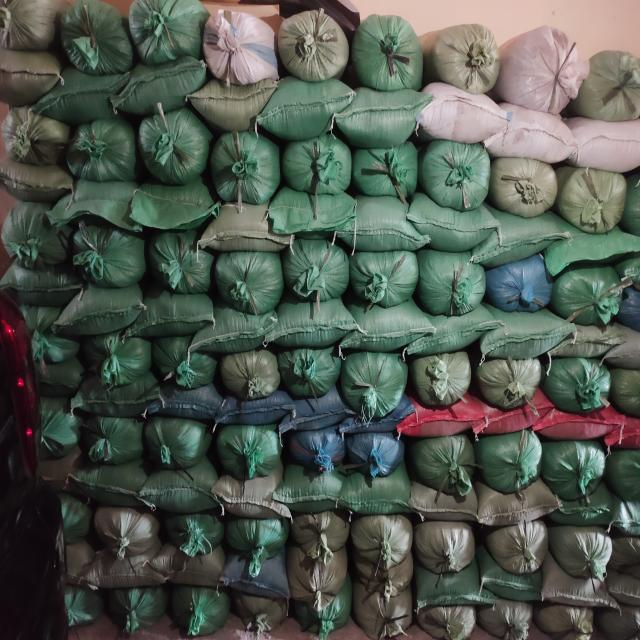Bistay sand: (513, 33, 576, 109), (437, 17, 500, 93), (65, 15, 132, 71), (133, 10, 200, 66), (213, 30, 280, 86), (282, 10, 349, 66), (361, 28, 428, 84), (567, 166, 622, 231), (295, 135, 350, 200), (227, 132, 282, 197), (75, 226, 130, 291), (156, 231, 211, 296), (356, 248, 411, 313), (424, 250, 479, 315), (586, 53, 640, 118), (503, 151, 557, 216), (434, 139, 488, 204), (369, 145, 423, 210), (150, 116, 204, 181), (86, 122, 140, 187), (7, 110, 61, 175), (7, 203, 61, 268), (222, 244, 276, 309), (299, 238, 353, 303), (552, 352, 607, 415), (88, 334, 143, 397), (140, 412, 195, 474), (497, 258, 551, 321), (562, 267, 616, 330), (494, 353, 548, 416), (417, 353, 471, 416), (341, 353, 395, 416), (279, 336, 333, 399), (214, 343, 268, 406), (163, 333, 217, 396), (35, 328, 89, 391), (31, 394, 85, 457), (87, 409, 141, 472), (227, 428, 281, 490), (294, 422, 349, 475), (413, 440, 468, 493), (477, 440, 532, 493), (549, 439, 604, 492), (360, 522, 415, 575), (107, 501, 162, 554), (344, 431, 399, 483), (557, 529, 612, 581), (497, 525, 552, 577), (425, 526, 480, 578), (297, 508, 352, 560), (229, 510, 284, 562), (167, 511, 222, 563), (131, 66, 206, 101), (190, 83, 265, 118), (271, 94, 346, 129), (353, 98, 428, 133), (421, 96, 496, 131), (493, 111, 568, 146), (486, 218, 561, 253), (421, 206, 496, 241), (350, 207, 425, 242), (280, 199, 355, 234), (210, 205, 285, 240), (130, 184, 205, 219), (64, 187, 139, 222), (1, 269, 76, 304), (57, 293, 132, 328), (139, 297, 214, 332), (193, 315, 268, 350), (289, 313, 364, 348), (344, 311, 419, 346), (423, 316, 498, 351), (494, 325, 569, 360), (561, 332, 636, 367), (545, 406, 620, 441), (477, 407, 552, 442), (410, 402, 485, 437), (566, 125, 640, 160), (566, 237, 640, 272), (147, 472, 217, 505), (215, 481, 285, 514), (335, 415, 412, 444), (417, 601, 473, 640), (542, 600, 598, 639), (61, 72, 117, 111), (360, 591, 416, 629), (475, 602, 531, 640), (1, 65, 57, 103), (294, 566, 351, 603), (228, 561, 285, 597), (169, 545, 226, 581), (54, 489, 92, 542), (280, 481, 349, 510), (340, 489, 409, 518), (410, 497, 479, 526), (486, 496, 555, 525), (551, 499, 620, 528), (544, 577, 613, 606), (6, 8, 51, 51), (283, 395, 342, 425), (221, 400, 280, 430), (153, 396, 212, 426), (72, 467, 131, 497), (115, 588, 157, 623), (179, 588, 221, 623), (243, 595, 285, 630), (317, 600, 359, 635), (59, 591, 100, 626), (422, 579, 479, 603), (65, 547, 104, 582), (484, 576, 541, 599), (360, 569, 417, 591)
